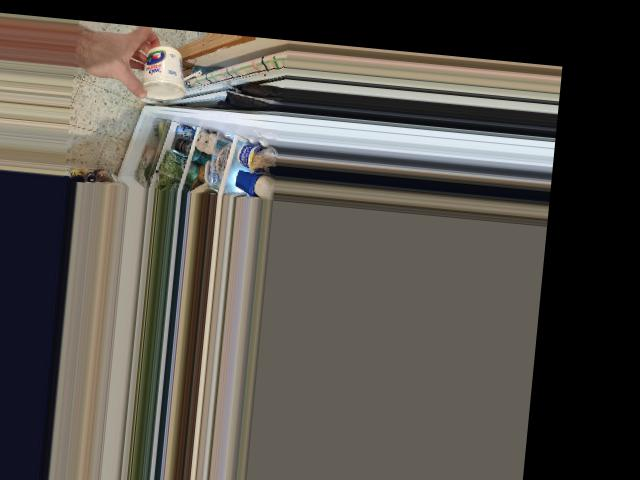cotage: (128, 38, 191, 106)
